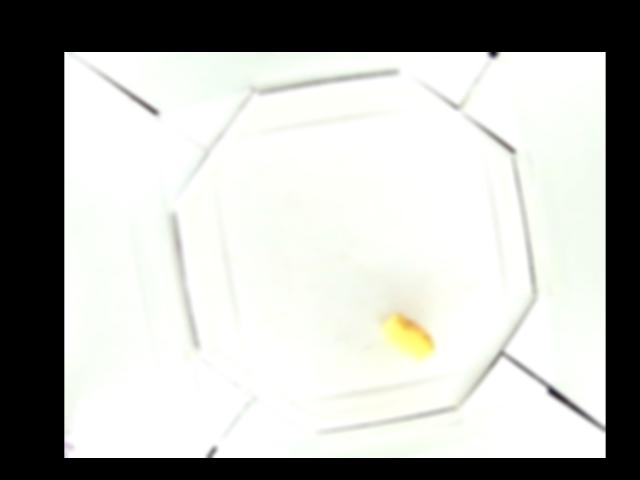Potato: (380, 314, 434, 359)
